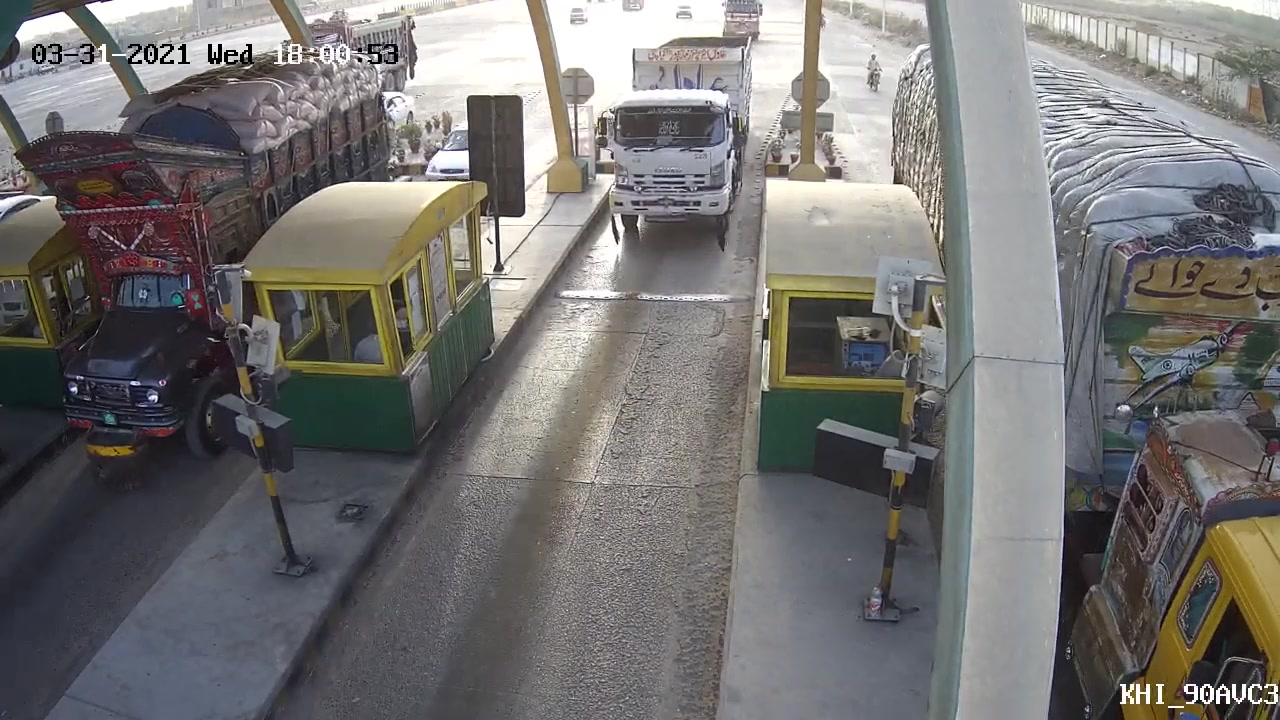F6: (596, 26, 760, 250)
